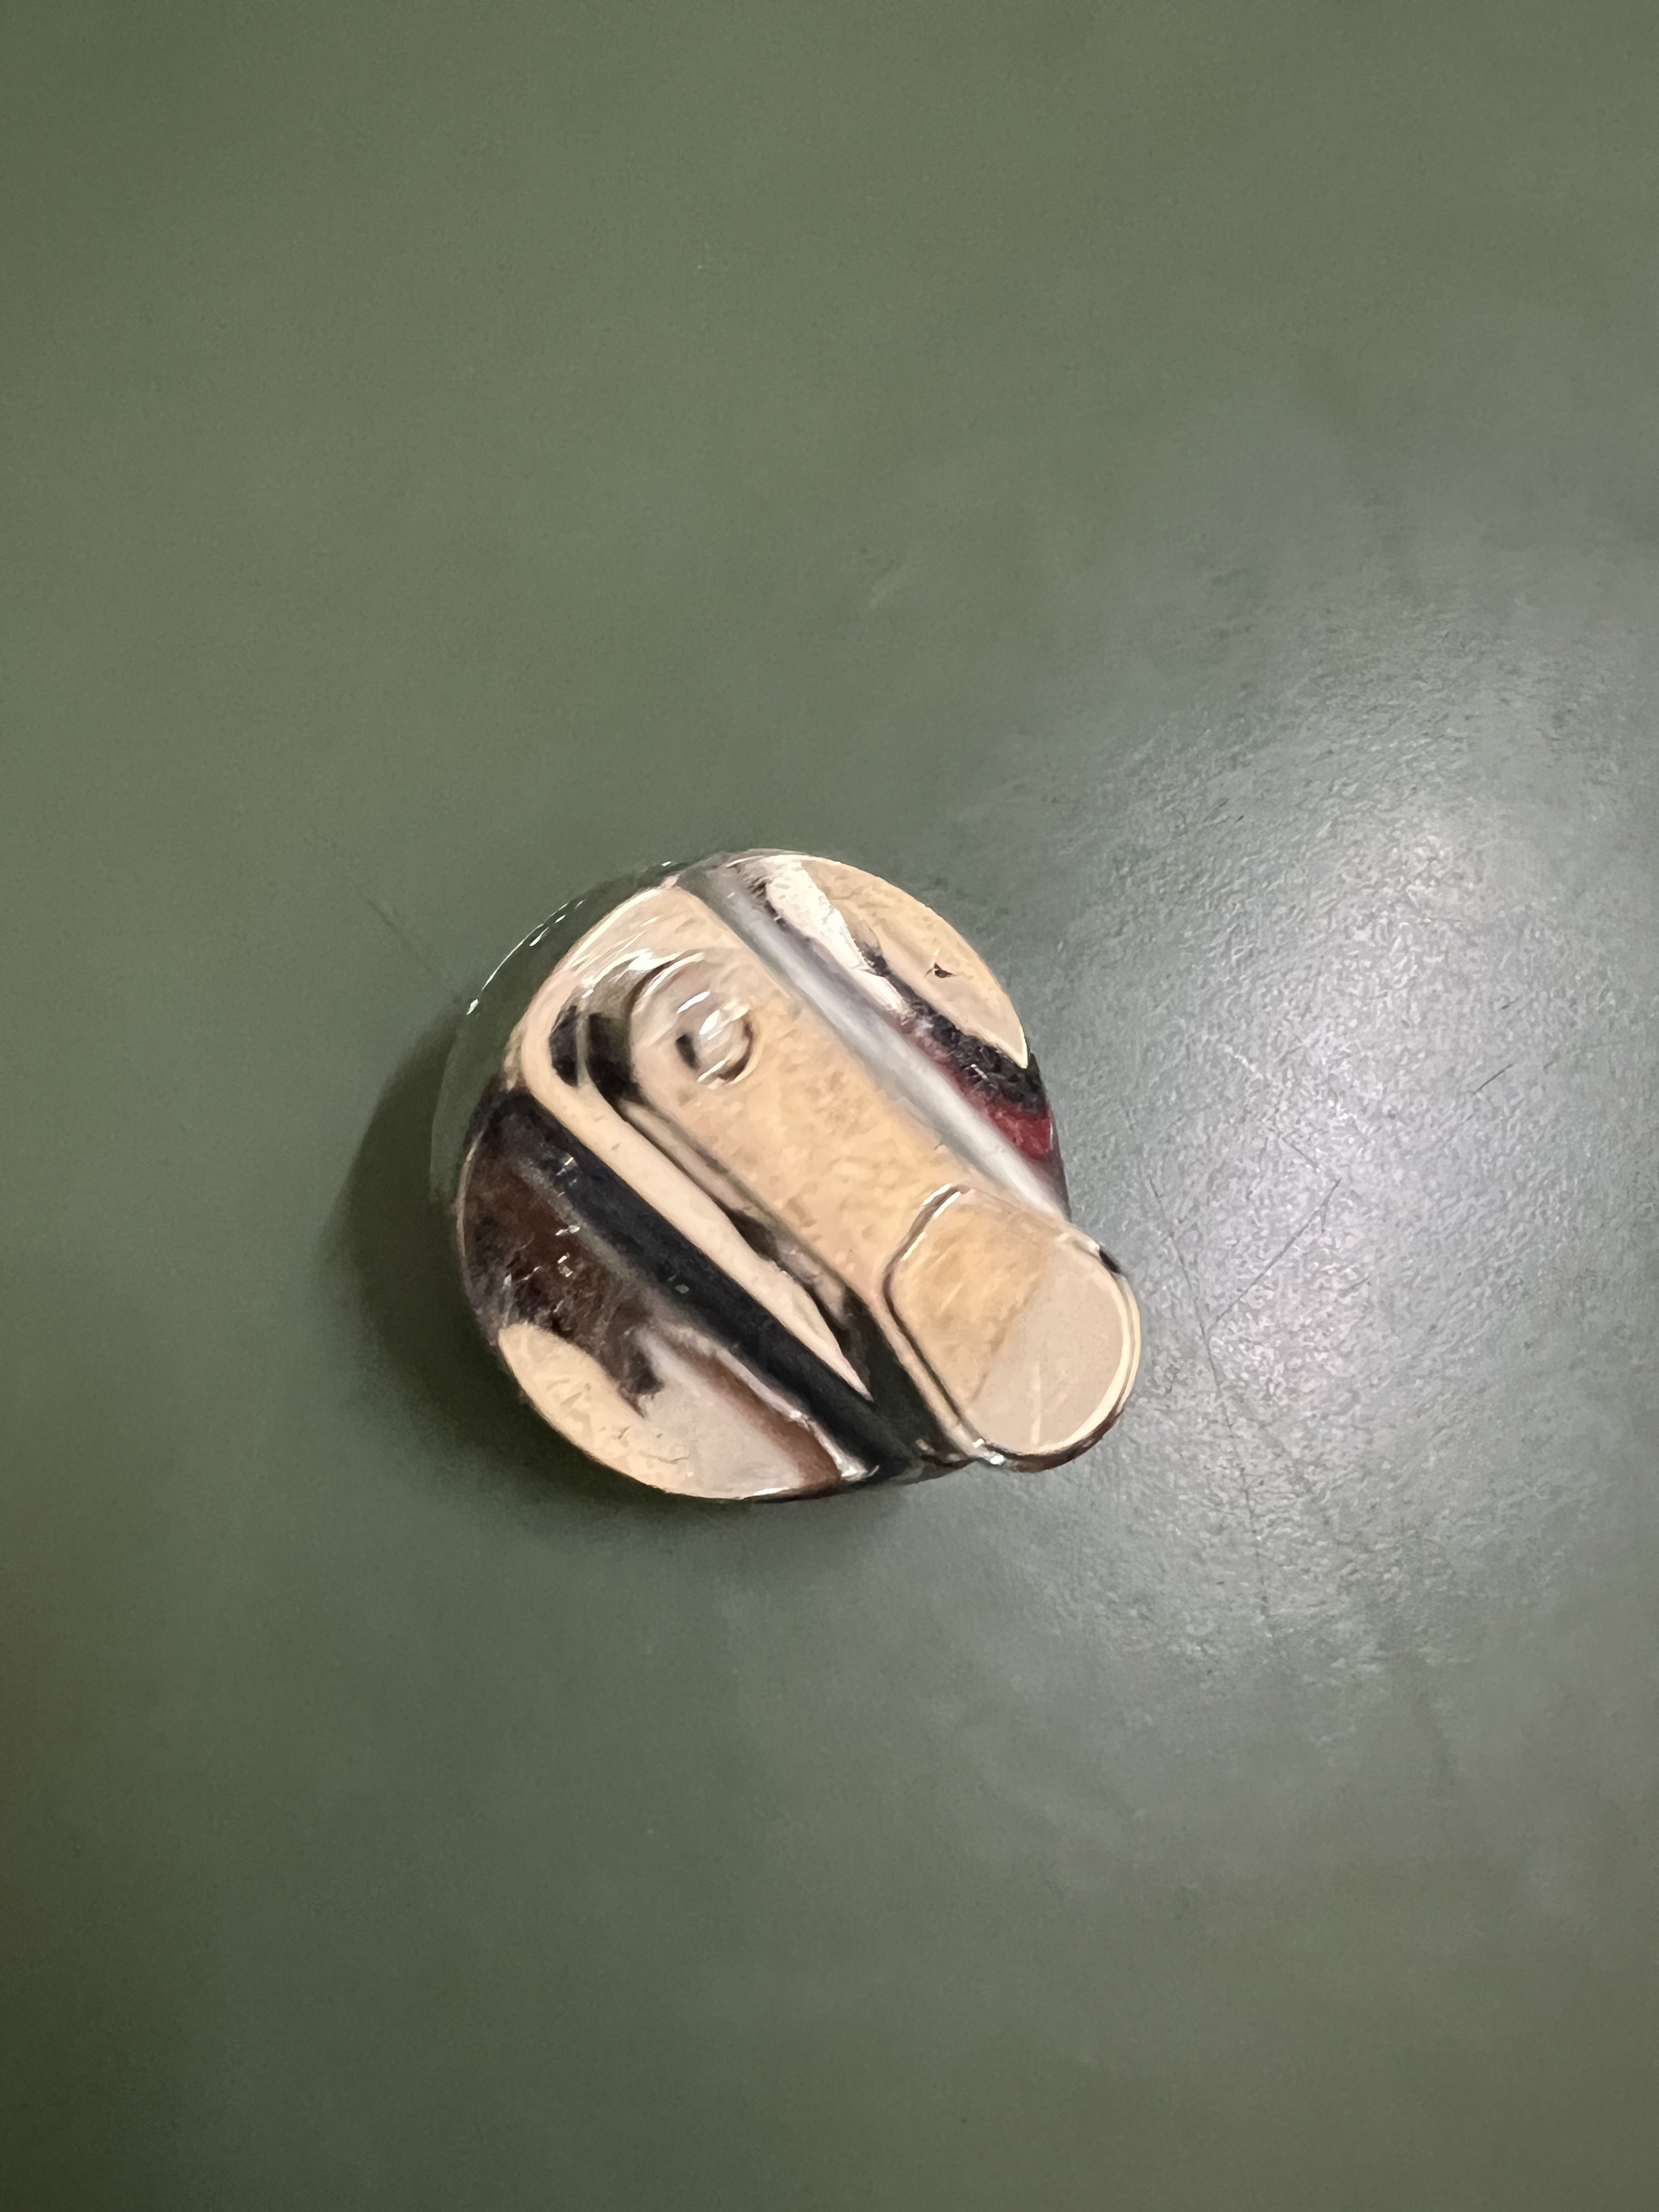regulator: (423, 820, 1155, 1507)
